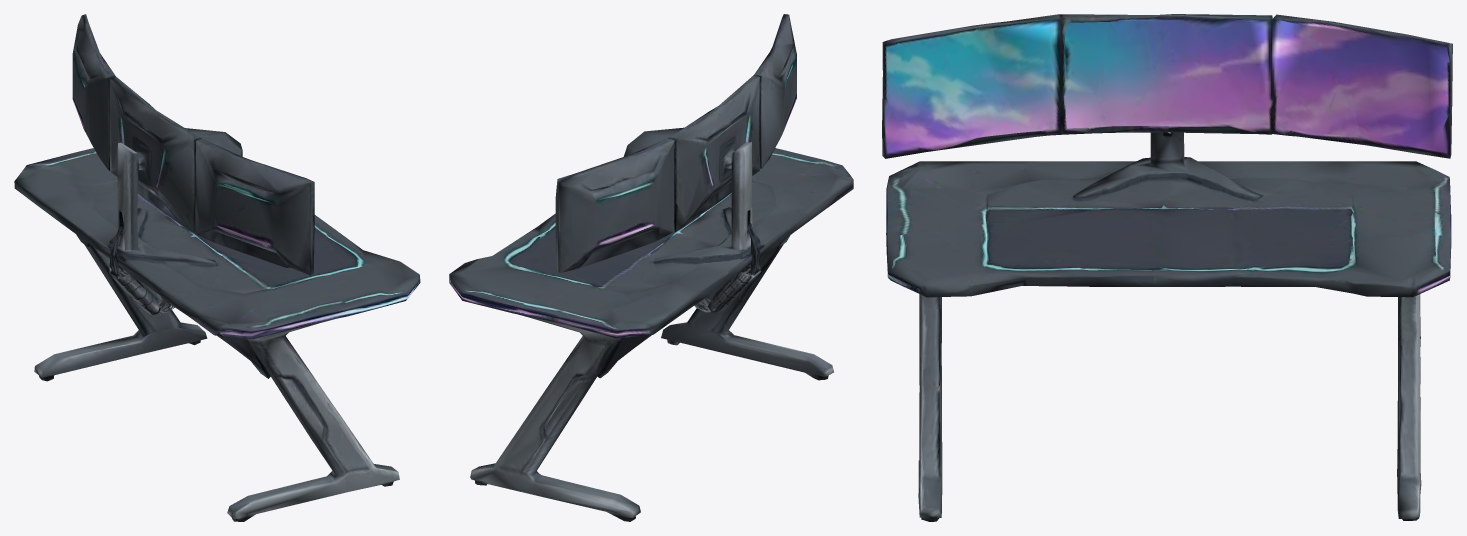
The model's file is au_furn_desk_cyber.glb.
3 renders of one model, left to right at view 1: azimuth 30°, elevation 25°; view 2: azimuth 150°, elevation 25°; view 3: azimuth 270°, elevation 25°, orthographic. The views are drawn at different scales.
Parts seen in each view (by area): view 1: tripo_node_caefbb24-9eb5-494b-8440-9b0c5e28c733; view 2: tripo_node_caefbb24-9eb5-494b-8440-9b0c5e28c733; view 3: tripo_node_caefbb24-9eb5-494b-8440-9b0c5e28c733.
Part boxes in pixels (x1,y1,x2,y2): tripo_node_caefbb24-9eb5-494b-8440-9b0c5e28c733: (14, 14, 420, 521); tripo_node_caefbb24-9eb5-494b-8440-9b0c5e28c733: (449, 14, 853, 521); tripo_node_caefbb24-9eb5-494b-8440-9b0c5e28c733: (882, 14, 1452, 521).
Size of the model in its own units: 0.5213 by 0.7962 by 0.979.
Materials: 1 (1 with a texture image).
